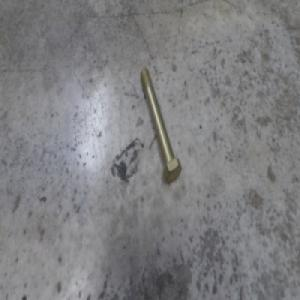Bolt: (139, 63, 181, 185)
